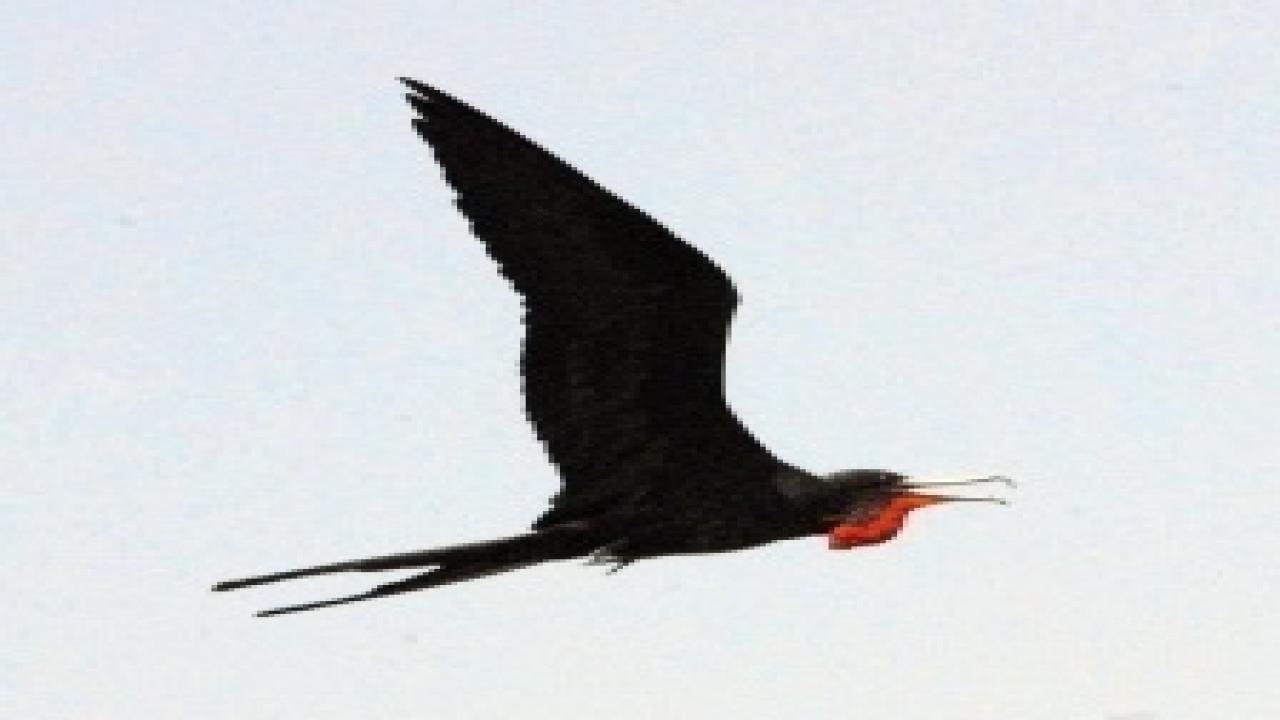Bird: (192, 66, 1027, 628)
